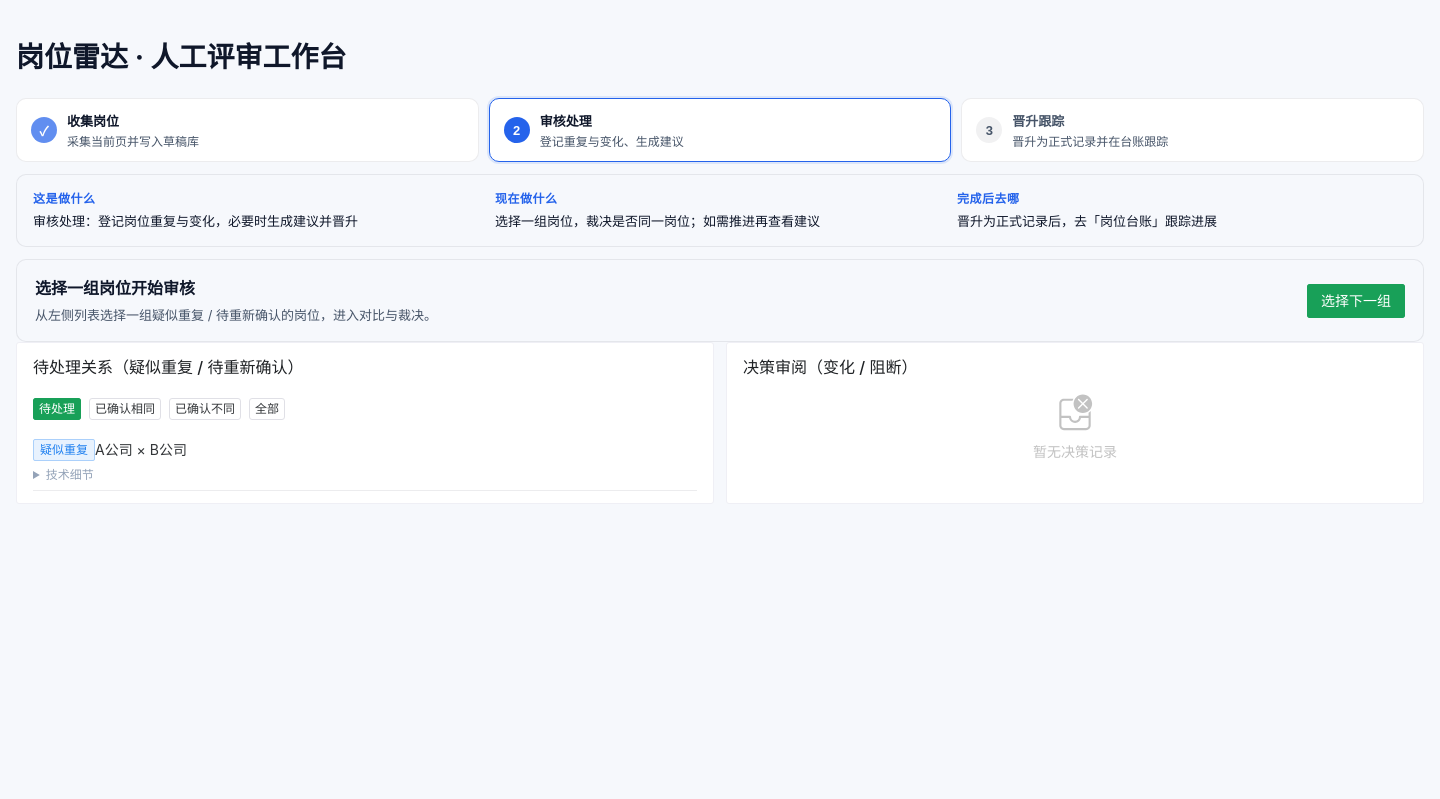
it: RadarReviewPage 候选对比 + 变化 + 证据 › V8-5.5 候选 A/B 为两张等宽卡（结构对称）
Click the button with test id "relation-rel-1".
click(110, 450)  # box [33,439,187,461]
(page scrolled)
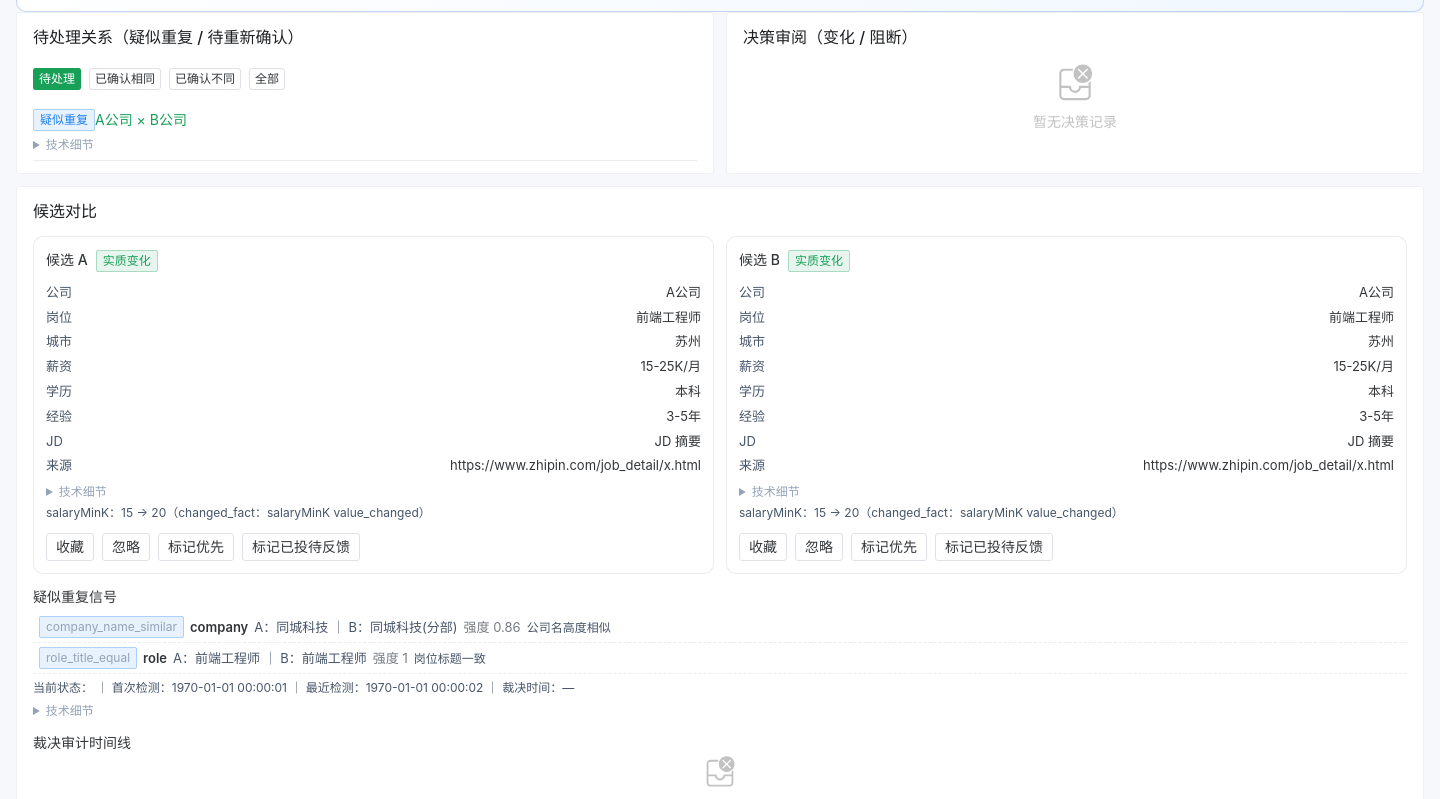
Expected: the element with test id "candidate-card-low" is shown, [33,236,714,574]
Expected: the element with test id "candidate-card-high" is shown, [726,236,1407,574]
